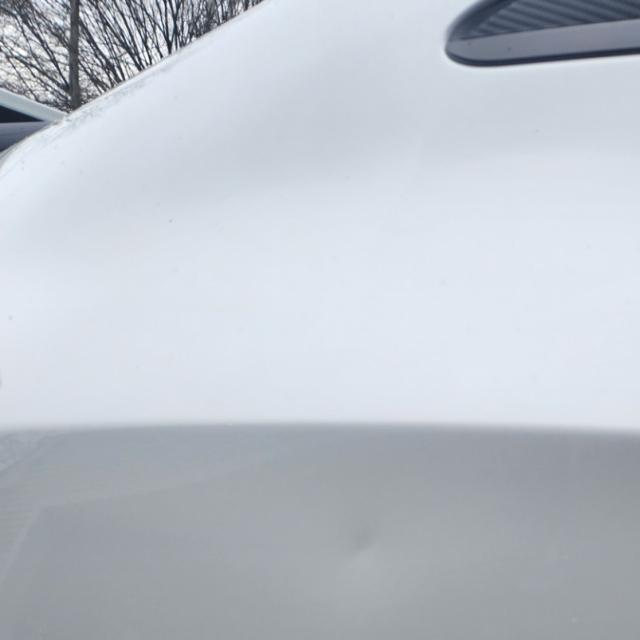dents: (326, 504, 414, 582)
